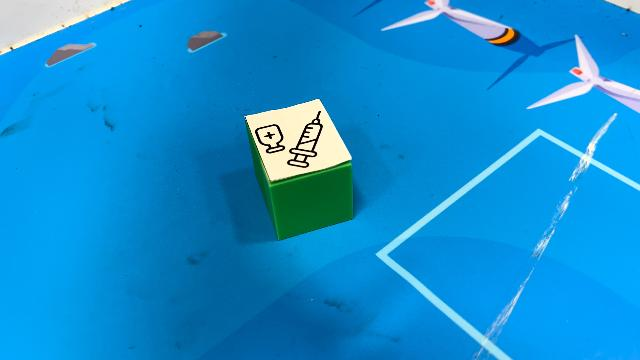syringe: (244, 98, 356, 240)
